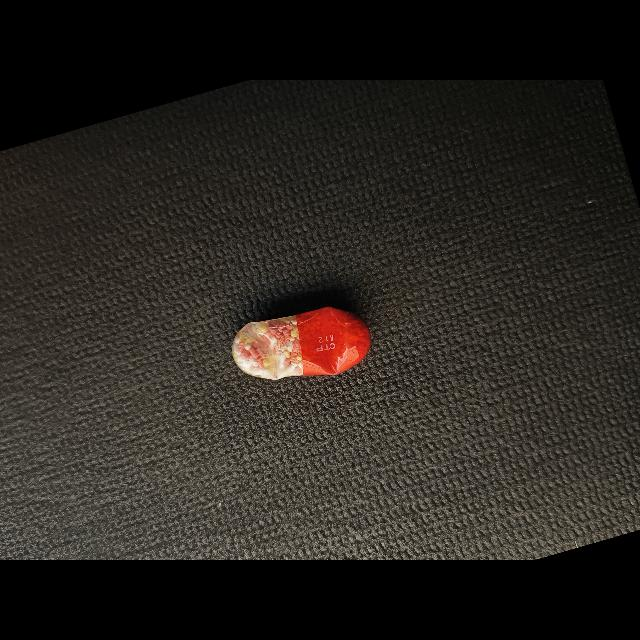Defective Capsule: (232, 306, 371, 380)
